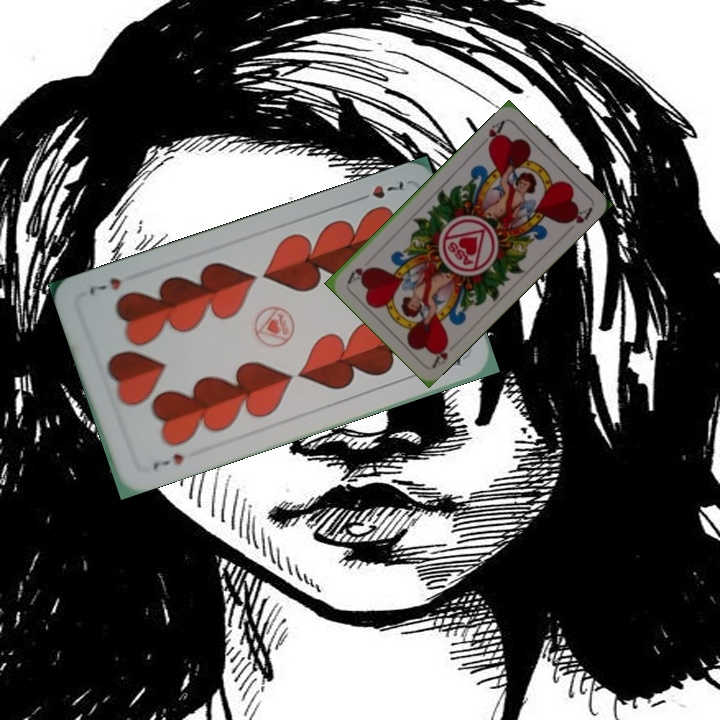H7: (351, 177, 408, 204), (149, 449, 186, 473)
HA: (476, 116, 508, 151), (428, 336, 451, 370)
